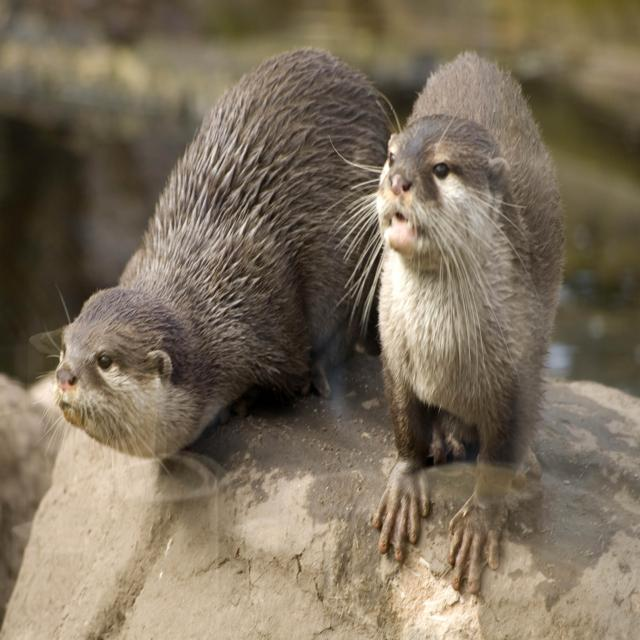otter: (60, 49, 390, 454), (375, 51, 563, 593)
